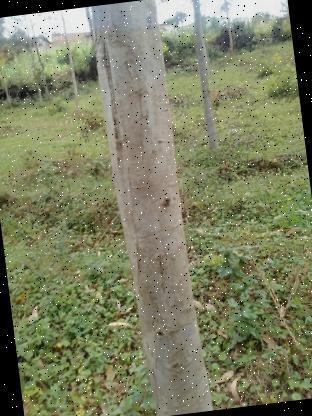tree: (82, 0, 222, 416)
